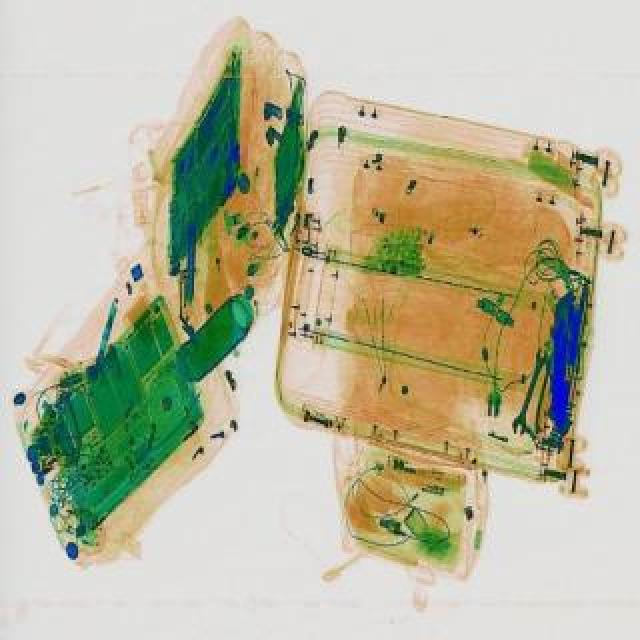scissors: (510, 344, 552, 434)
